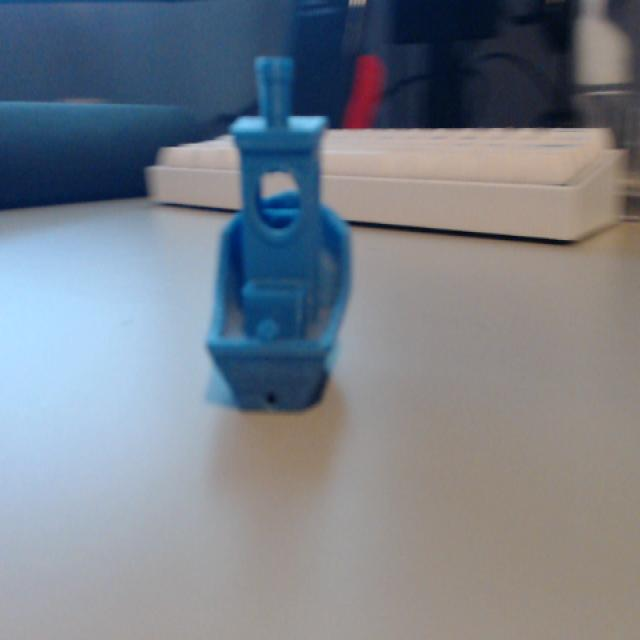benchy: (202, 52, 355, 413)
